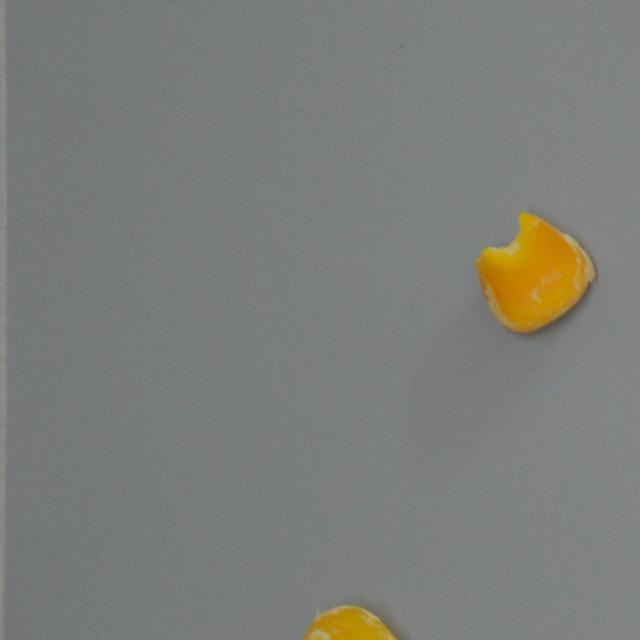pelicula: (474, 208, 602, 342), (284, 600, 409, 640)
